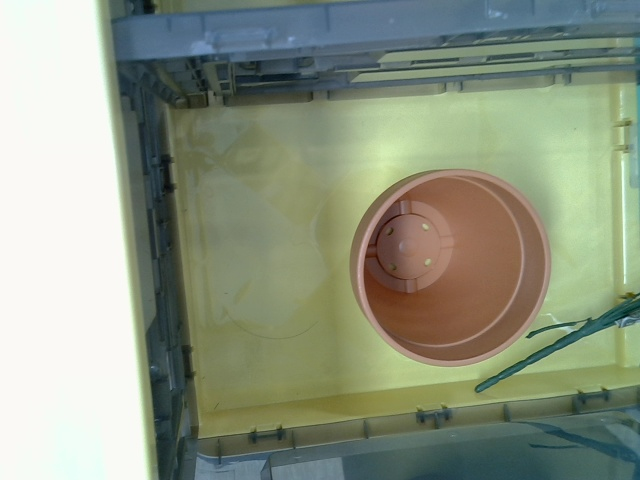화분: (349, 169, 553, 369)
